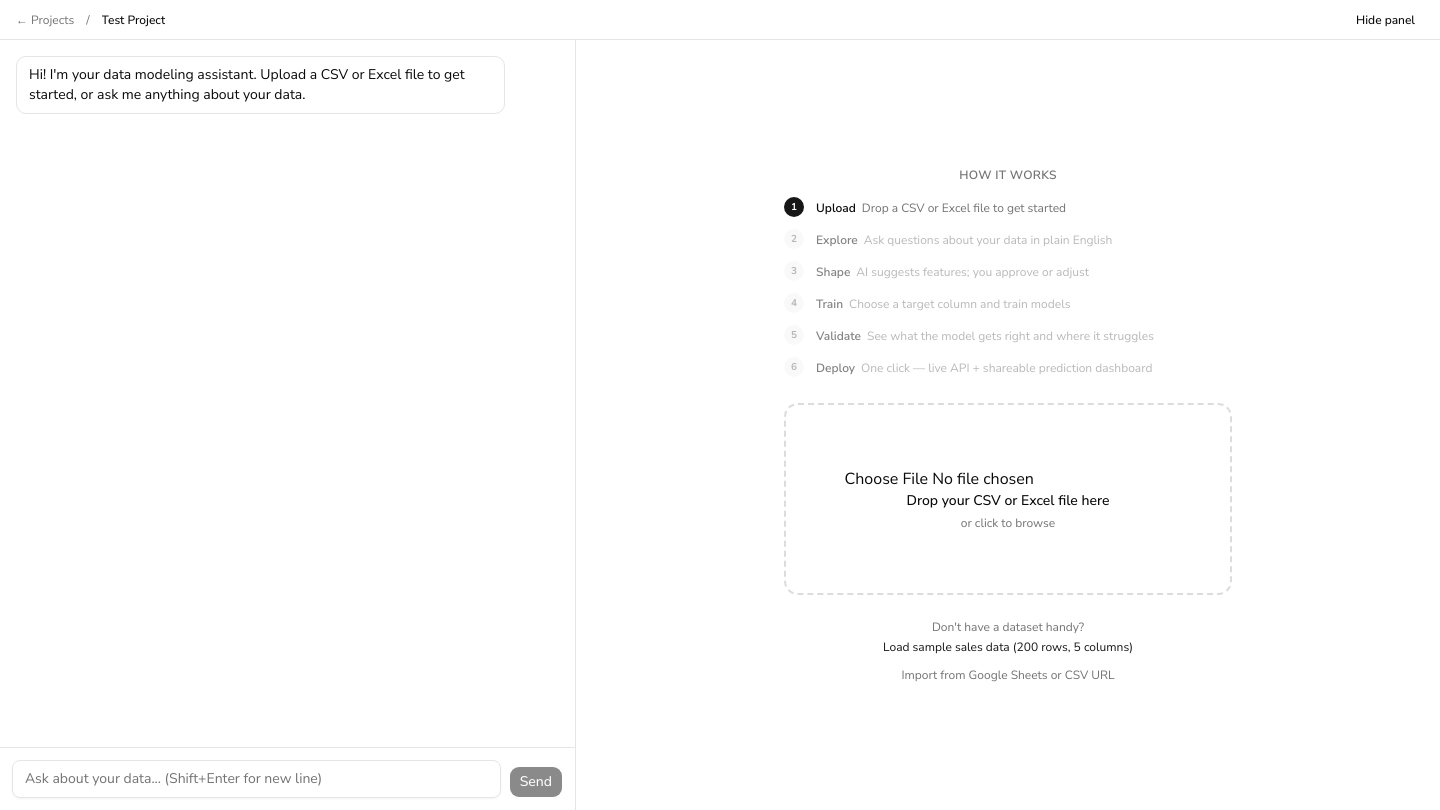
Test: Proactive upload suggestions › does NOT show suggestion chips when upload returns no suggestions
Click the button "Load sample sales data (200 rows, 5 columns)" at {"x": 1008, "y": 647}, box [883,639,1133,655]
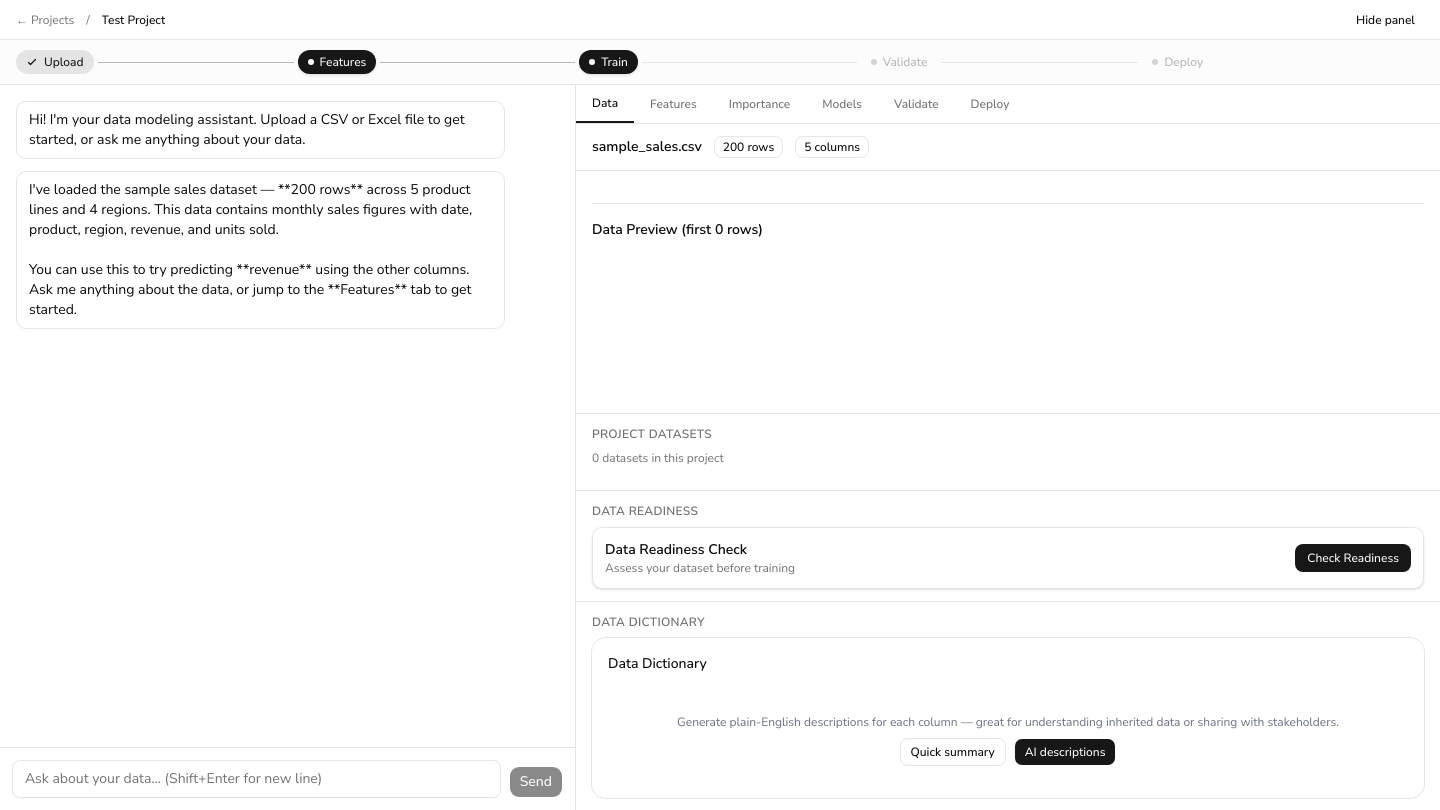
Check: the text "loaded the sample sales dataset" is shown, box [29,180,476,319]
